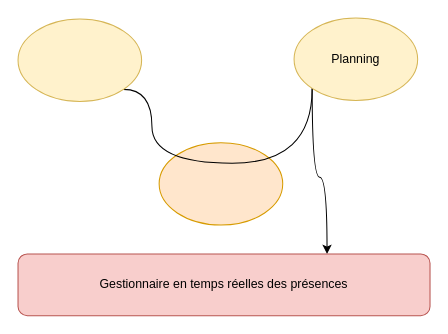
Some shapes in this 448 by 334 pixel diagram are drawn without their labels. The shapes that lost their labels are listed below. From the top down, each one's centre as x and y in pixels, then its label:
At [79,59]: "Utilisateurs".
At [220,183]: "Solution".
